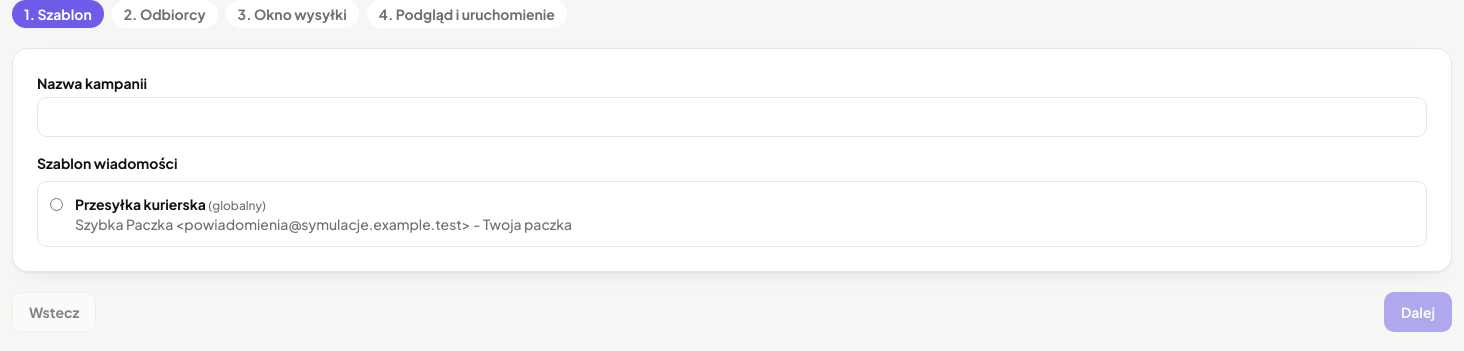
Scenario: CampaignWizard › krok 2: liczba odbiorców pochodzi z serwera; tryb działów wymaga wyboru; 0 odbiorców blokuje dalej
The image size is (1464, 351).
Type "Jesień" into the field labelled "Nazwa kampanii" at (732, 117), box top-left (37, 97), bottom-right (1427, 137)
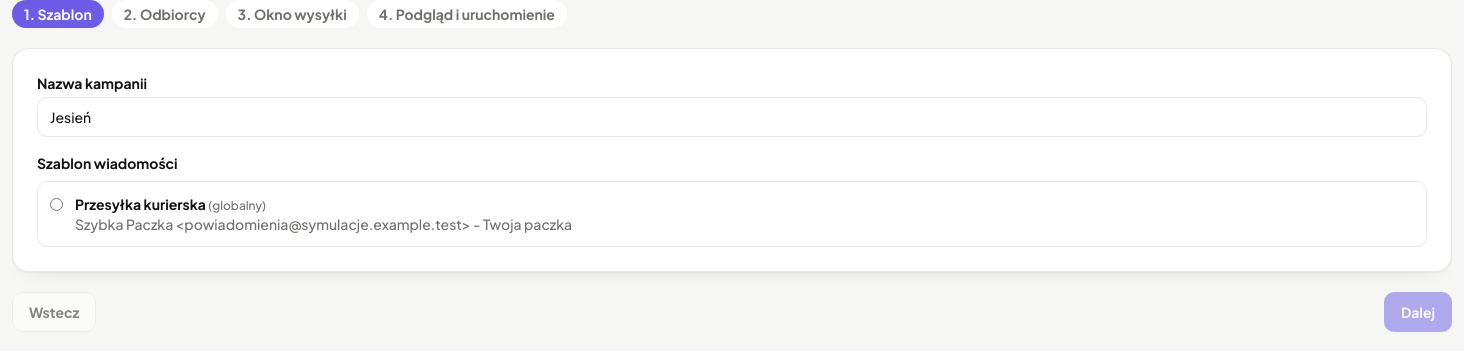
Click the radio button labelled "Przesyłka kurierska" at (56, 204), box top-left (50, 198), bottom-right (63, 211)
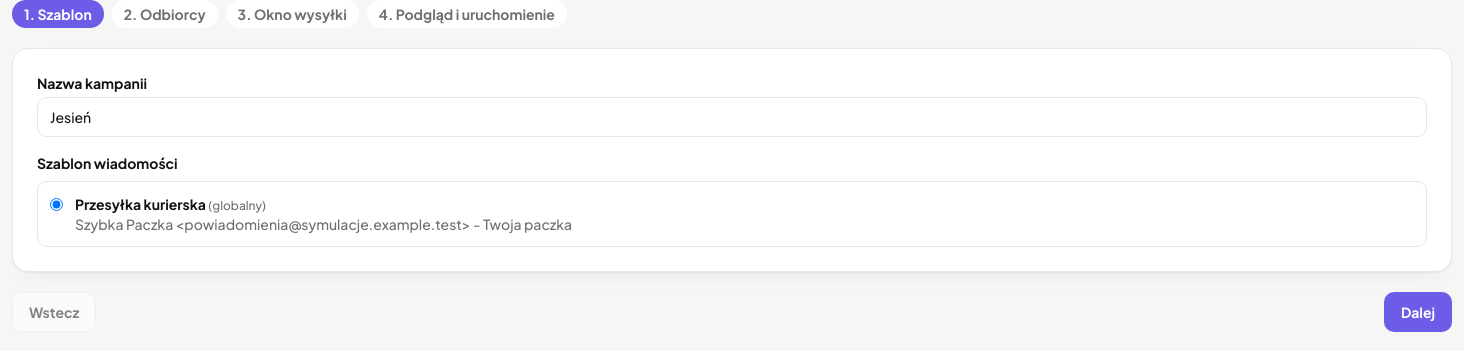
Click the button "Dalej" at (1418, 312), box top-left (1384, 292), bottom-right (1452, 332)
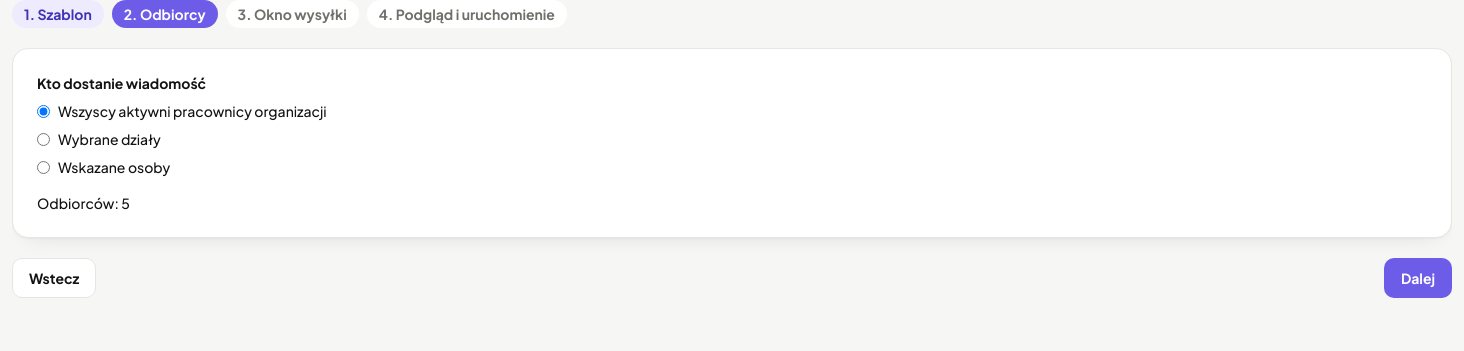
Now the text "Odbiorców: 5" is shown, box top-left (37, 194), bottom-right (130, 212)
Click the radio button labelled "Wybrane działy" at (44, 139), box top-left (37, 132), bottom-right (50, 146)
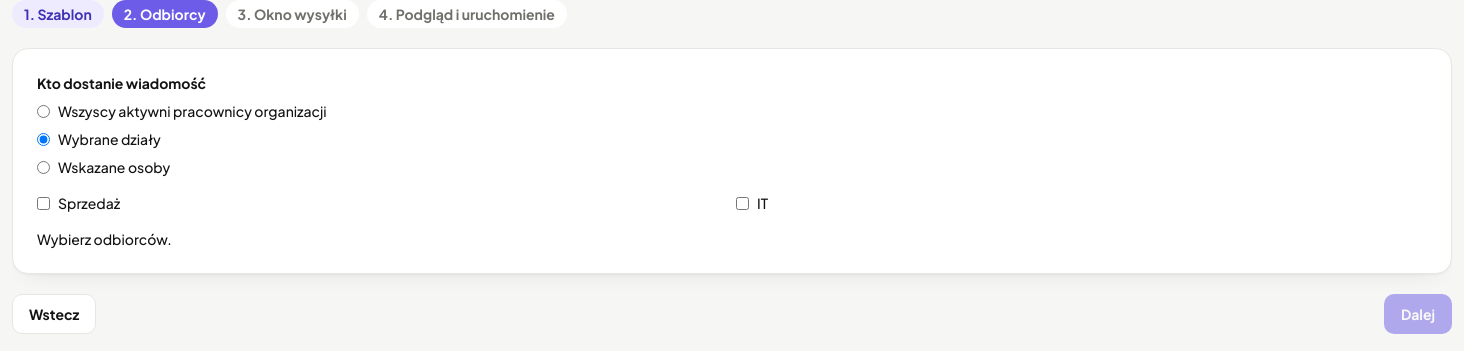
Now the button "Dalej" is disabled, box top-left (1384, 294), bottom-right (1452, 334)
Click the checkbox labelled "IT" at (742, 203), box top-left (736, 196), bottom-right (749, 210)
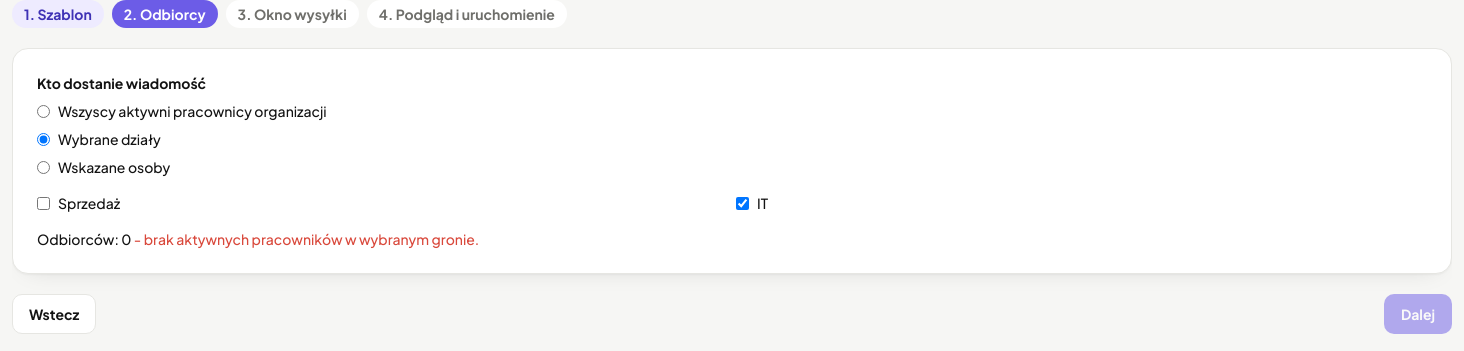
Now the button "Dalej" is disabled, box top-left (1384, 294), bottom-right (1452, 334)
Now the text "- brak aktywnych pracowników w wybranym gronie." is shown, box top-left (131, 230), bottom-right (479, 248)
